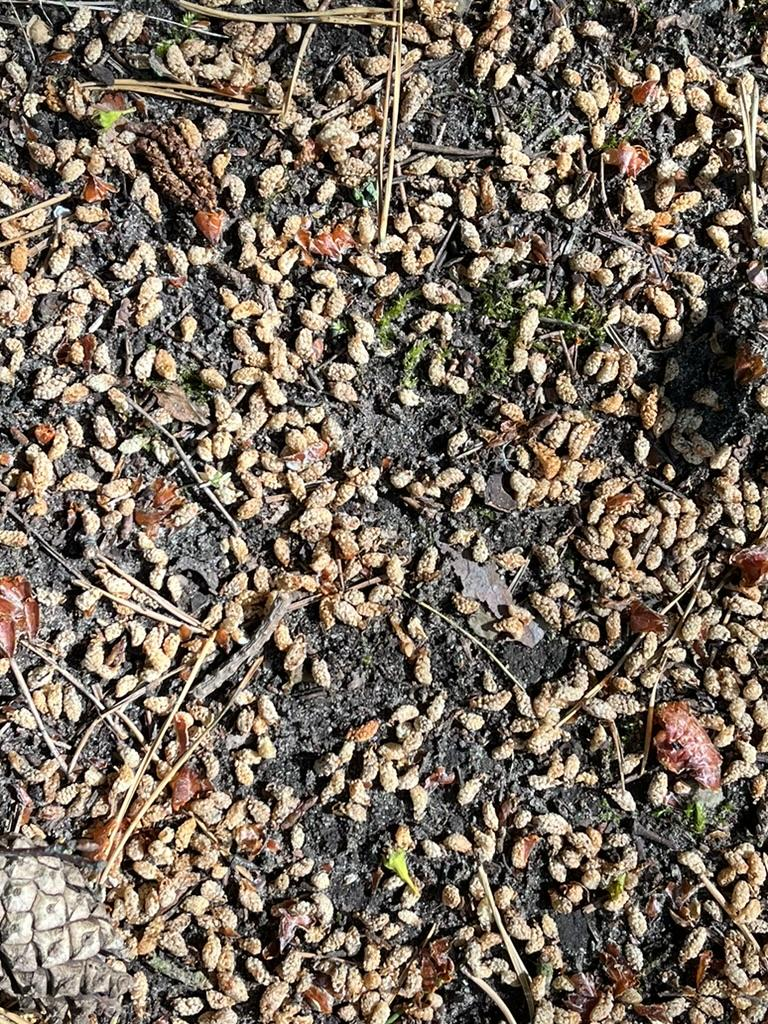pine: (0, 835, 151, 1024)
